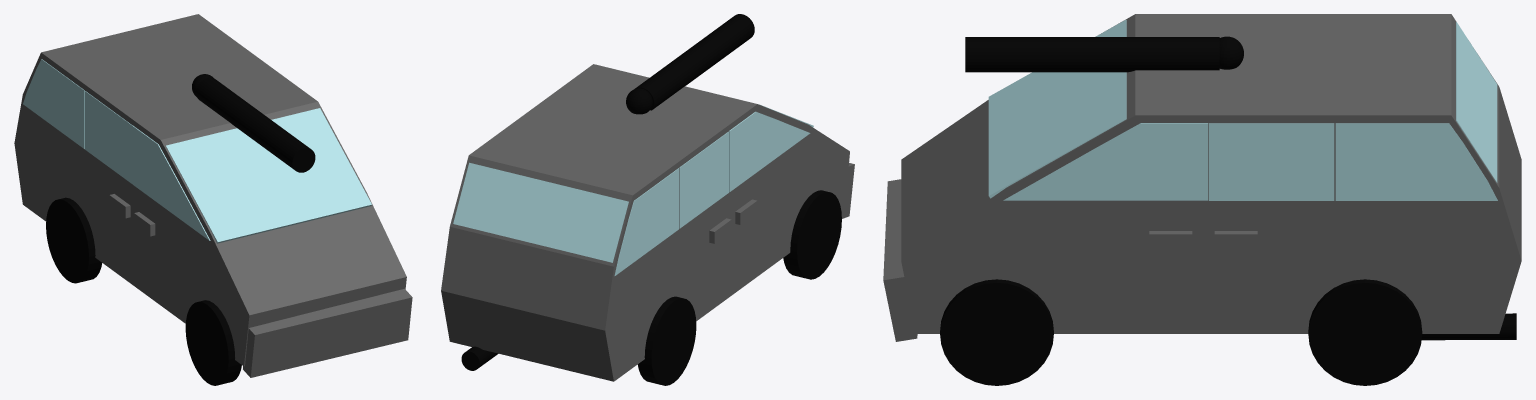
File: MiniVan.fbx
The picture shows the model from 3 angles, left to right: view 1: azimuth 30°, elevation 25°; view 2: azimuth 150°, elevation 25°; view 3: azimuth 270°, elevation 25°; orthographic projection. The views are drawn at different scales.
Visible parts, largest first — view 1: Cube, Cube.001, Cube.009, Cylinder.005, Cylinder.001, Cylinder, Cube.003, Cube.006, Cube.007, Cube.013, Cube.011; view 2: Cube, Cube.008, Cylinder.001, Cylinder, Cylinder.005, Cube.006, Cube.003, Cube.007, Sphere, Cylinder.004, Cube.011, Cube.013 (+1 smaller); view 3: Cube, Cube.001, Cube.005, Cube.002, Cube.004, Cylinder.003, Cylinder.002, Cylinder.005, Cube.008, Cube.009, Cylinder.004, Cube.010 (+2 smaller).
Boxes of the visible parts, <box> form: Cube: <box>14,14,406,366</box>; Cube.001: <box>166,108,371,243</box>; Cube.009: <box>243,288,412,377</box>; Cylinder.005: <box>196,77,315,172</box>; Cylinder.001: <box>185,300,241,385</box>; Cylinder: <box>46,197,101,283</box>; Cube.003: <box>132,125,210,240</box>; Cube.006: <box>23,59,84,148</box>; Cube.007: <box>85,91,132,183</box>; Cube.013: <box>109,194,130,218</box>; Cube.011: <box>134,212,155,236</box>; Cube: <box>441,64,849,381</box>; Cube.008: <box>453,162,628,262</box>; Cylinder.001: <box>783,190,841,279</box>; Cylinder: <box>637,296,696,385</box>; Cylinder.005: <box>635,14,754,110</box>; Cube.006: <box>614,168,678,275</box>; Cube.003: <box>729,111,810,192</box>; Cube.007: <box>679,131,728,228</box>; Sphere: <box>626,88,652,114</box>; Cylinder.004: <box>461,346,498,370</box>; Cube.011: <box>735,199,757,224</box>; Cube.013: <box>709,218,731,243</box>; Cube: <box>901,14,1521,333</box>; Cube.001: <box>988,20,1126,198</box>; Cube.005: <box>1335,123,1497,200</box>; Cube.002: <box>1003,123,1208,200</box>; Cube.004: <box>1209,123,1334,200</box>; Cylinder.003: <box>1308,279,1422,385</box>; Cylinder.002: <box>940,279,1053,385</box>; Cylinder.005: <box>965,37,1219,72</box>; Cube.008: <box>1456,22,1497,182</box>; Cube.009: <box>883,179,917,341</box>; Cylinder.004: <box>1421,313,1516,340</box>; Cube.010: <box>1149,231,1192,249</box>.
Size of the model in its own units: 453 by 1122 by 570.
